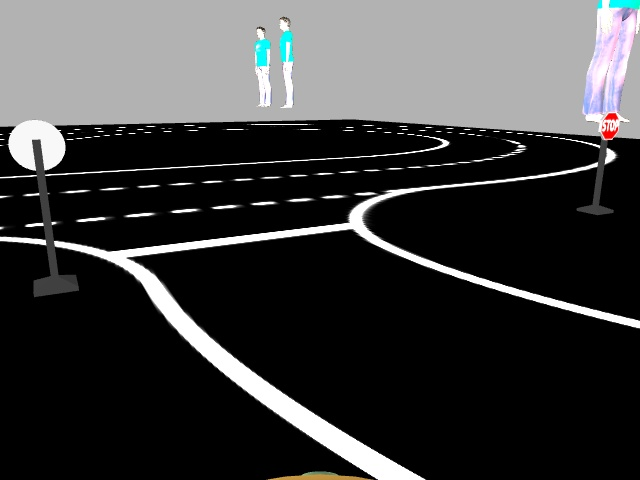Stop: (600, 109, 619, 140)
